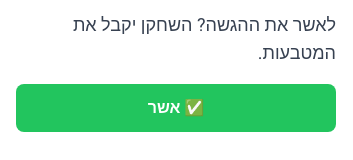
Test: EmailActionPage › approves only after the parent clicks
Click the button "✅ אשר" at (176, 108), box [16,84,336,132]
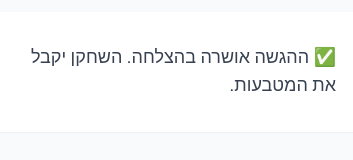
Result: the message shows "ההגשה אושרה" at [31,44,336,99]
